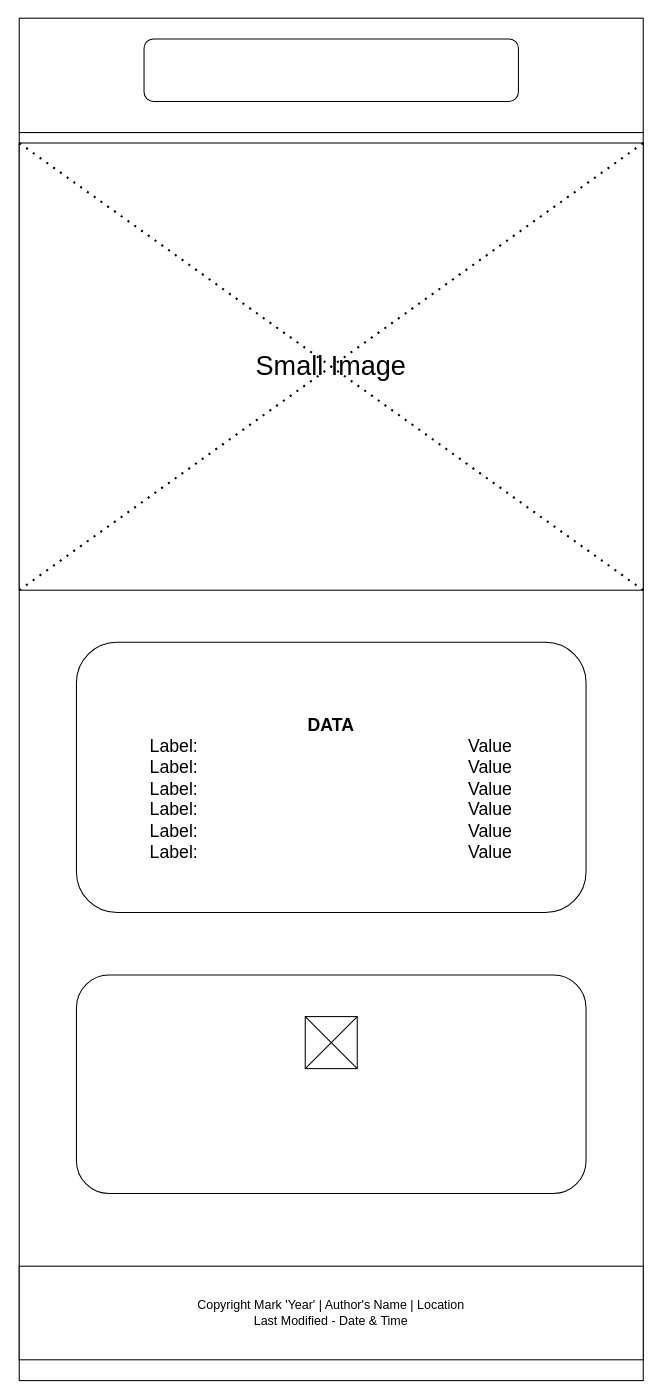
The diagram is 662 pixels wide and 1399 high, and some of its shapes have lost their labels. The shapes that lost their labels are listed below. From the top down, each one's box as (x1, y1, x2, y2) in pixels, then its label:
(143, 38, 518, 101): P lace Title
(75, 974, 586, 1193): WEATHER Label: Value Label: Value Label: Value Label: Value Label: Value
